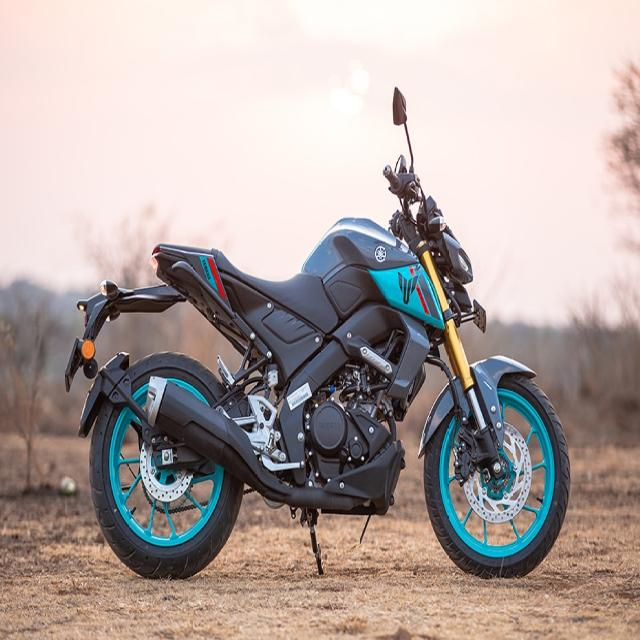MOTORCYCLE: (68, 215, 569, 582)
